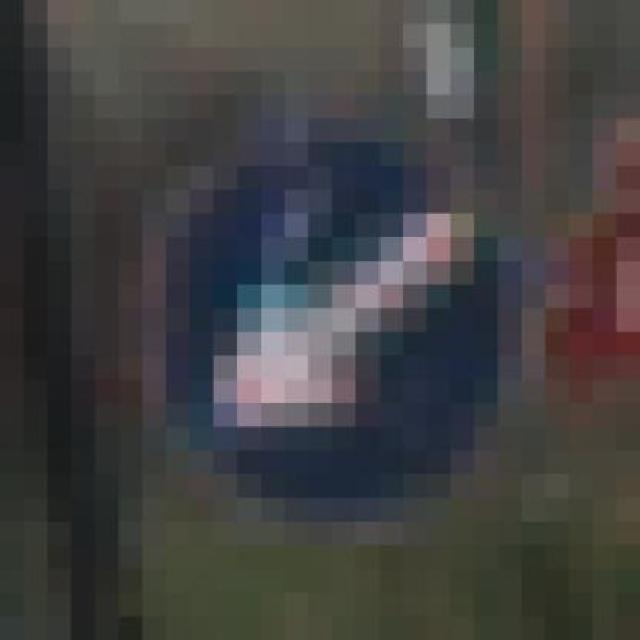Keep-Left: (119, 95, 522, 498)
